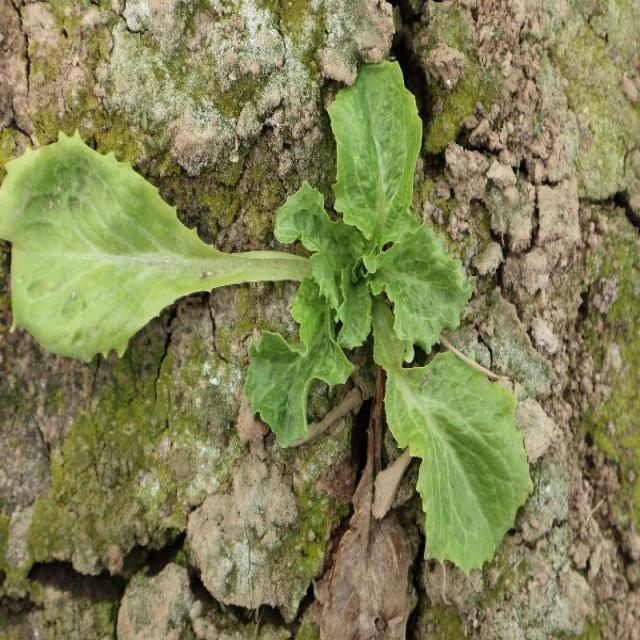crop: (244, 55, 536, 581), (2, 128, 312, 368)
